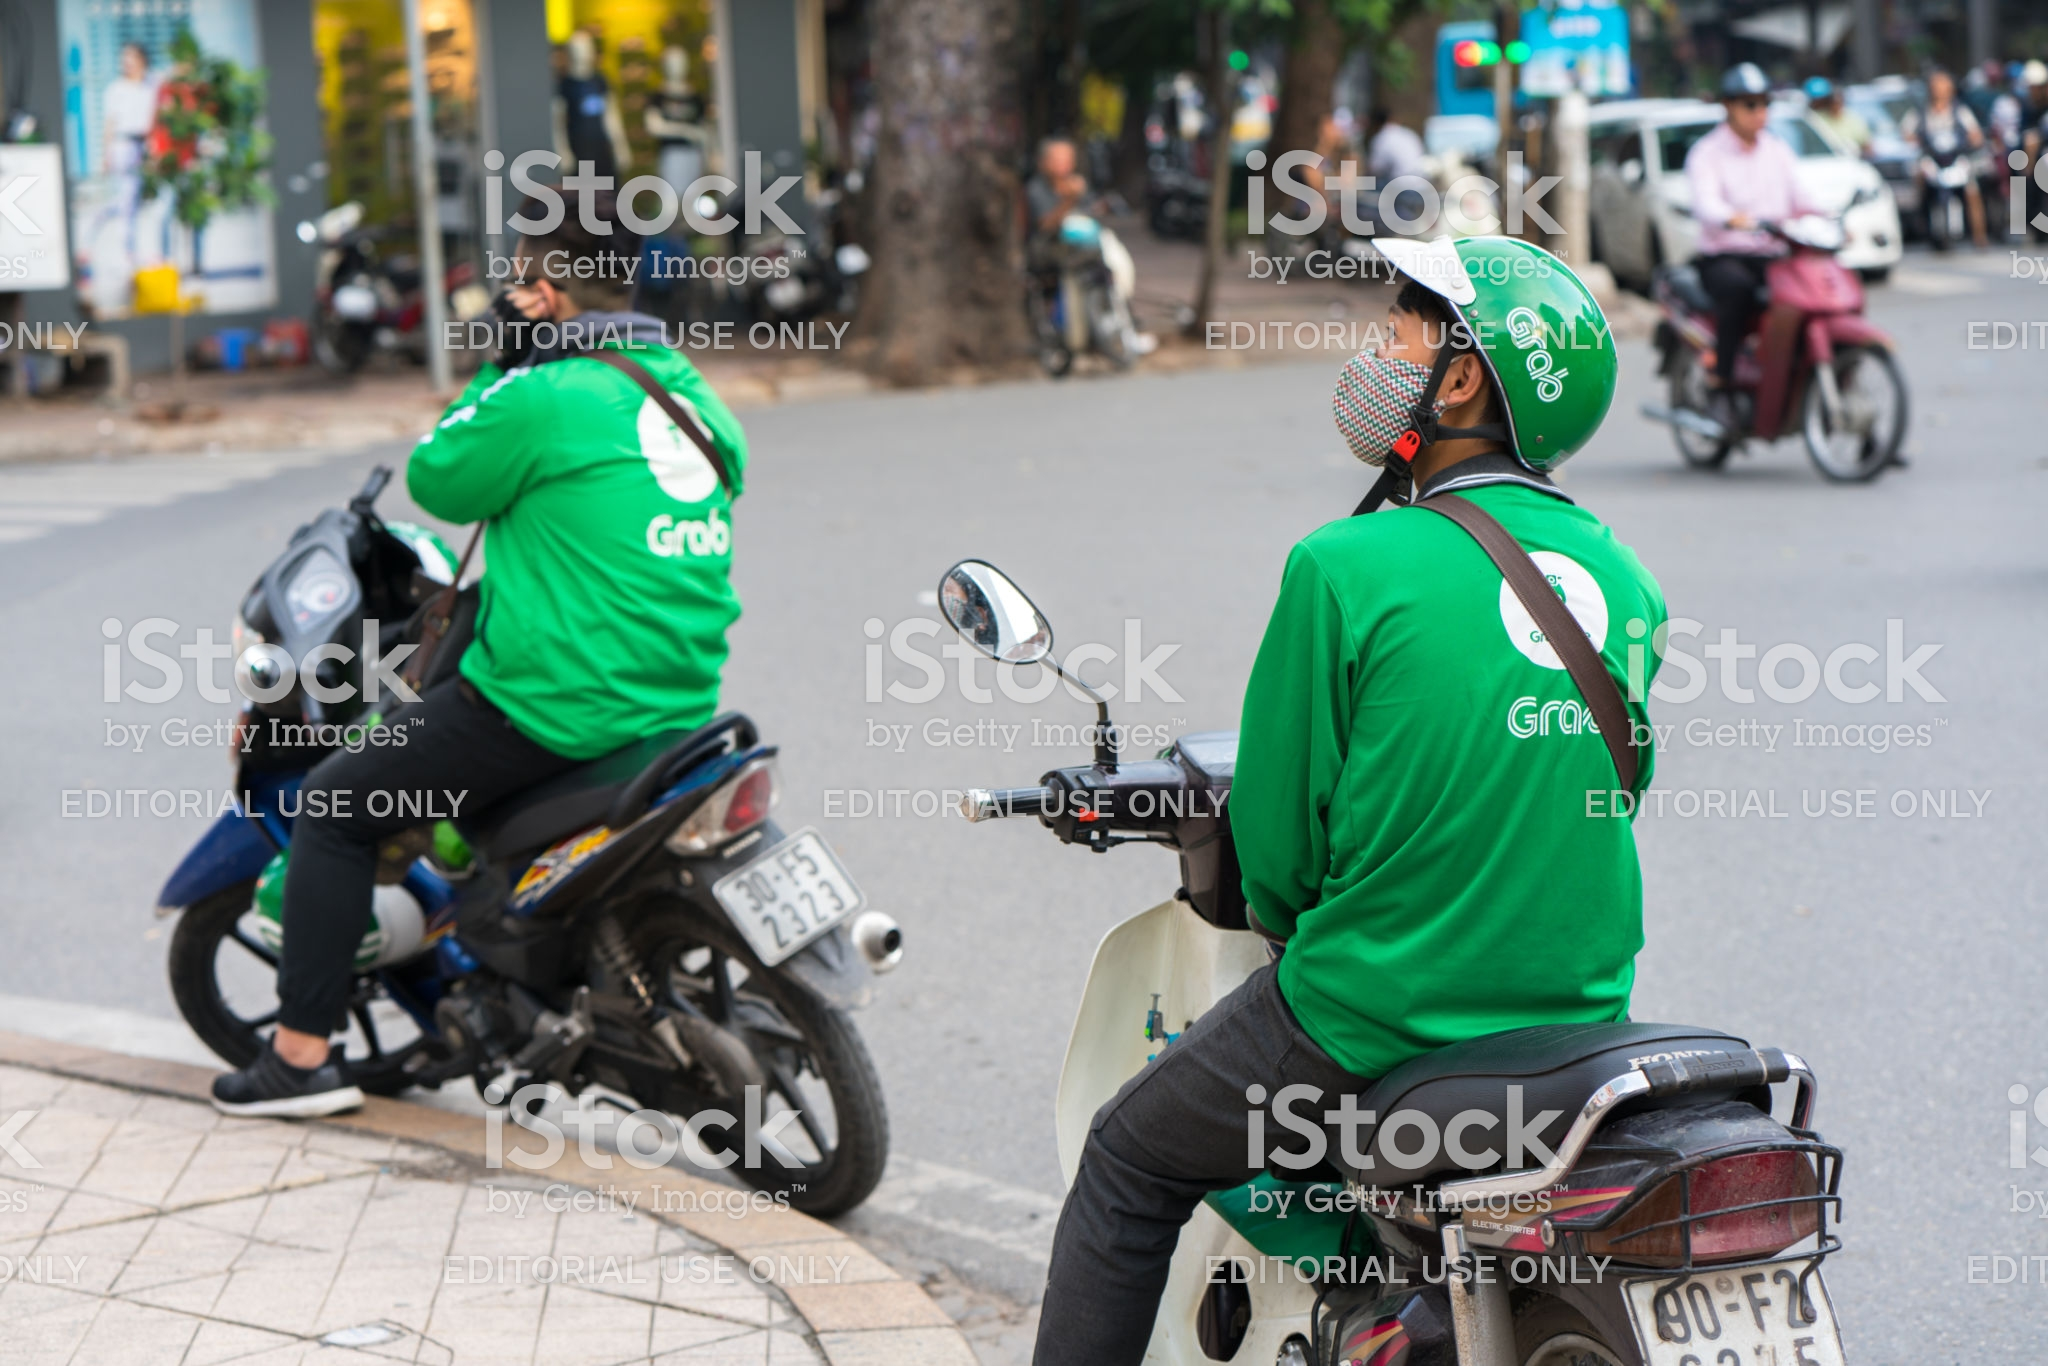helmet: (1390, 213, 1649, 451)
